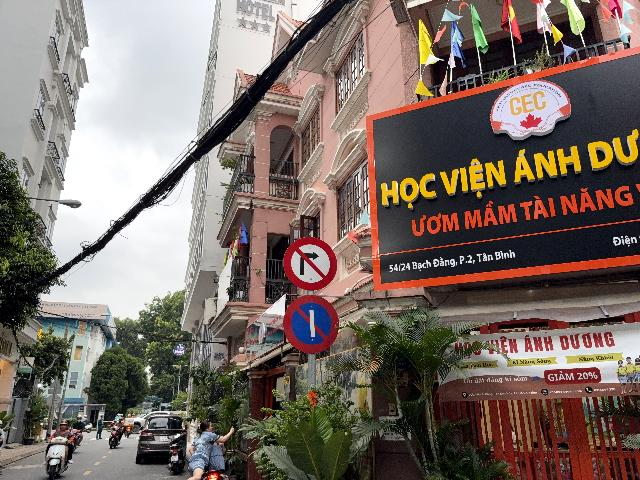cam-do-xe-ngay-le: (283, 294, 339, 354)
cam-re-phai: (283, 237, 337, 291)
